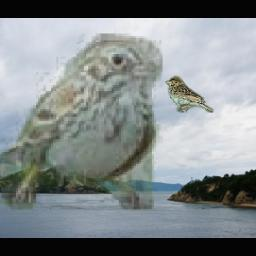Sparrow: (0, 34, 163, 210), (165, 76, 214, 113)
